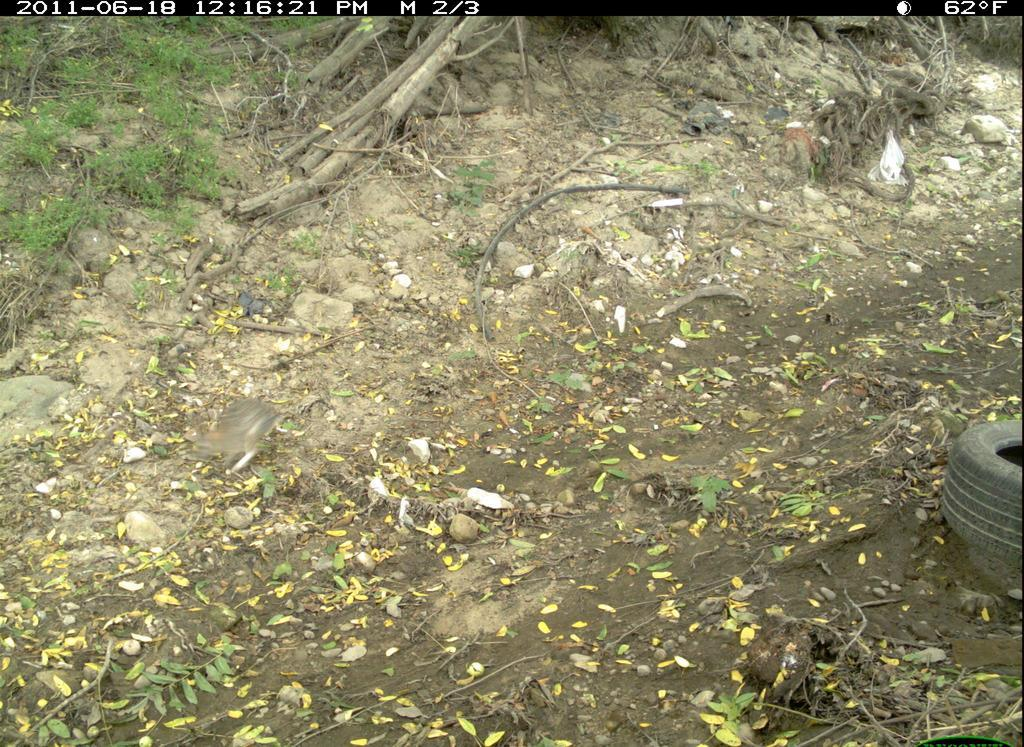rabbit: (176, 392, 304, 481)
